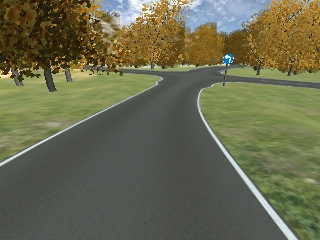left: (223, 55, 234, 64)
